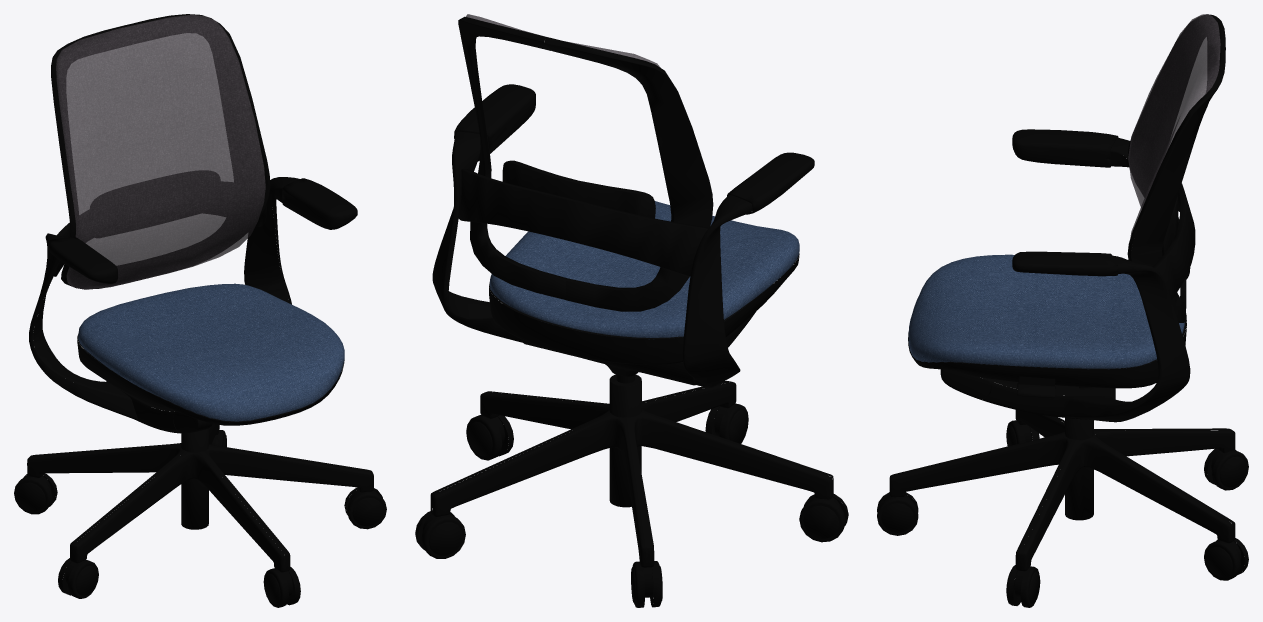
Rendered from optimized_chair.glb.
The picture shows the model from 3 angles, left to right: view 1: azimuth 30°, elevation 25°; view 2: azimuth 150°, elevation 25°; view 3: azimuth 270°, elevation 25°; orthographic projection. The views are drawn at different scales.
Size of the model in its own units: 0.6647 by 0.9113 by 0.6328.
2 materials, 2 textured.
